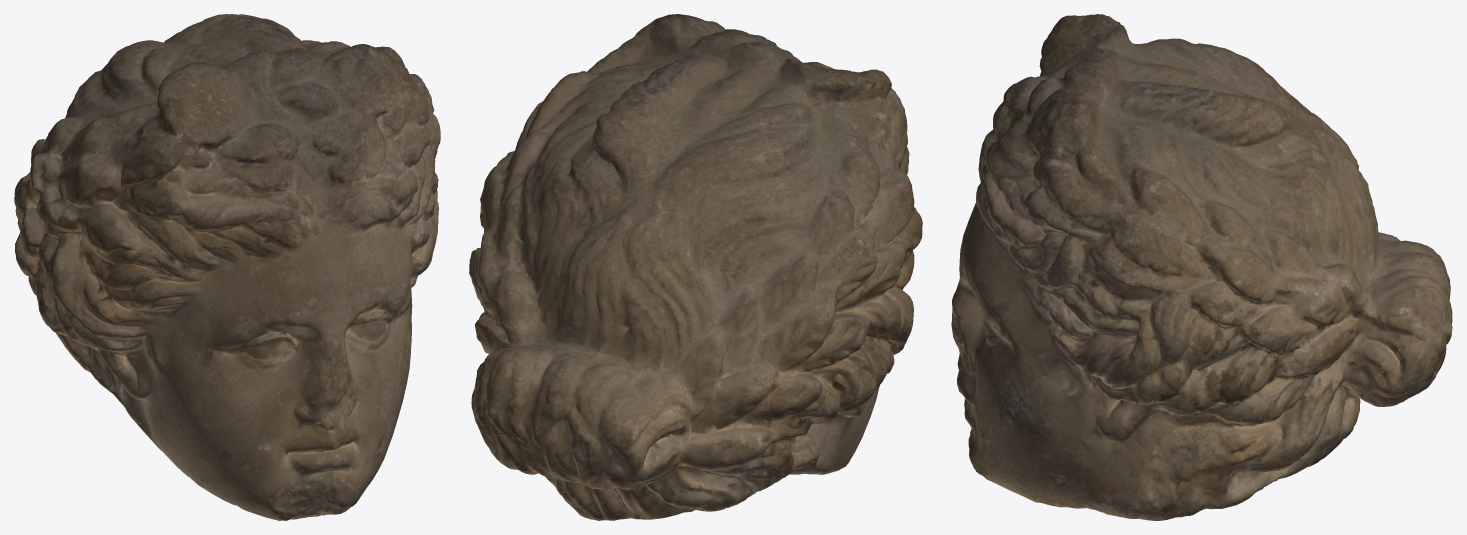
The picture shows the model from 3 angles, left to right: view 1: azimuth 30°, elevation 25°; view 2: azimuth 150°, elevation 25°; view 3: azimuth 270°, elevation 25°; orthographic projection. The views are drawn at different scales.
Parts seen in each view (by area): view 1: Tete_Lauree_LP; view 2: Tete_Lauree_LP; view 3: Tete_Lauree_LP.
Part boxes in pixels (<box>): Tete_Lauree_LP: <box>14,14,440,520</box>; Tete_Lauree_LP: <box>469,14,922,520</box>; Tete_Lauree_LP: <box>951,14,1452,520</box>.
Size of the model in its own units: 1.52 by 1.63 by 1.73.
1 material, 1 textured.
